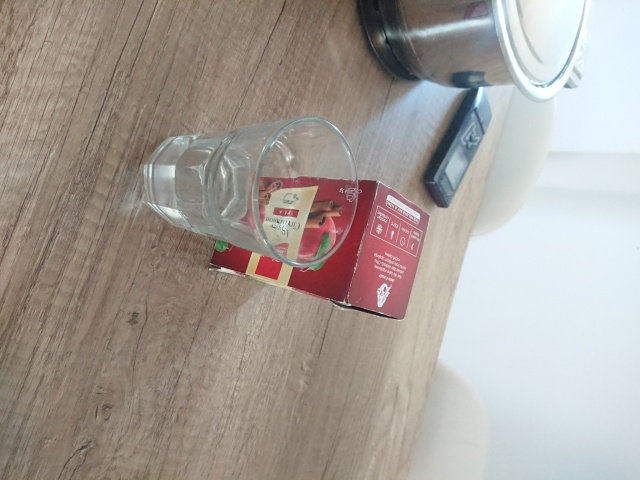Franck Apple Cinnamon Tea 60g: (205, 172, 431, 321)
